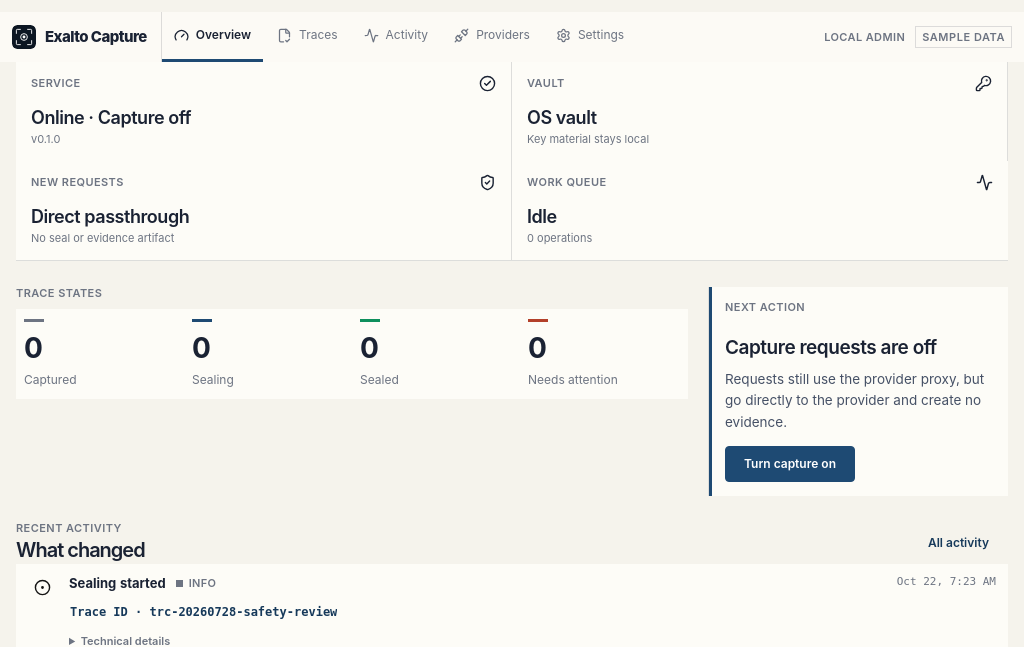
Test: Notary admin dashboard › turns capture on directly from Overview
Step 1. Click the button "Turn capture on" → (790, 464), box x1=725 y1=446 x2=855 y2=482
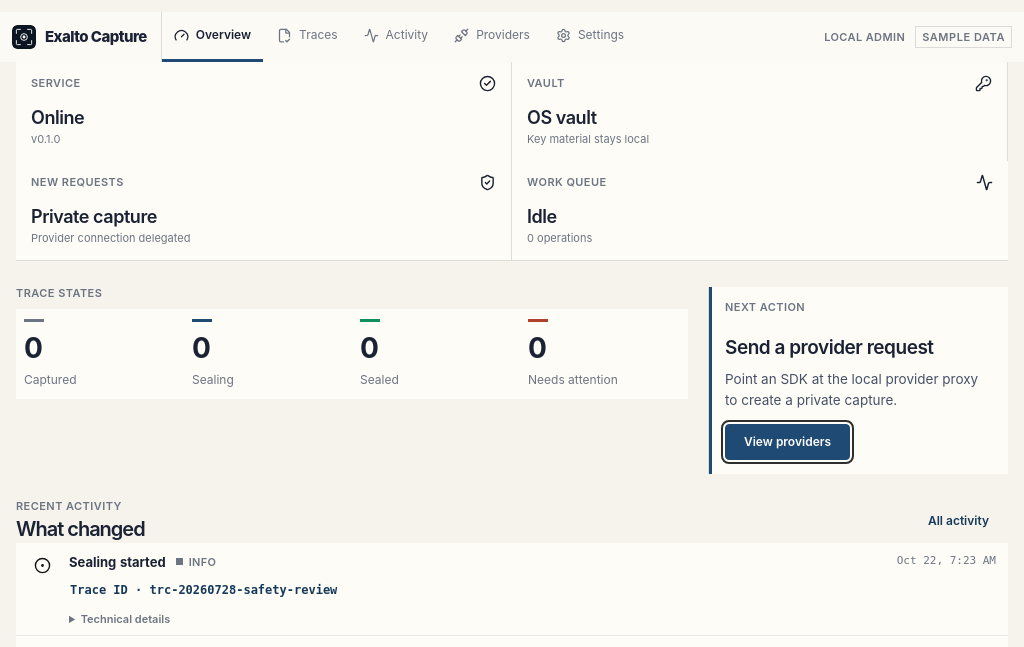
Expected: the button "View providers" is shown, x1=725 y1=424 x2=850 y2=460
